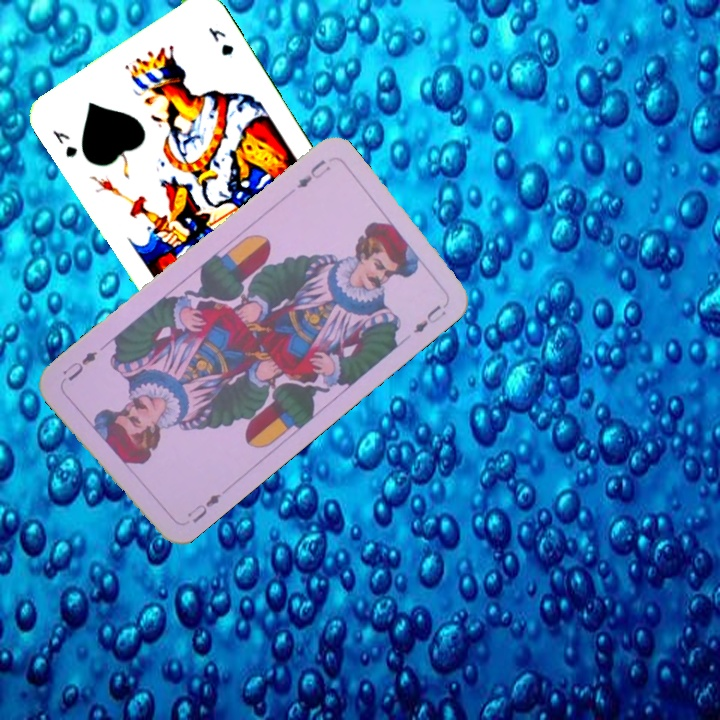EU: (182, 489, 224, 526), (292, 155, 333, 192)
GK: (48, 126, 80, 161)
